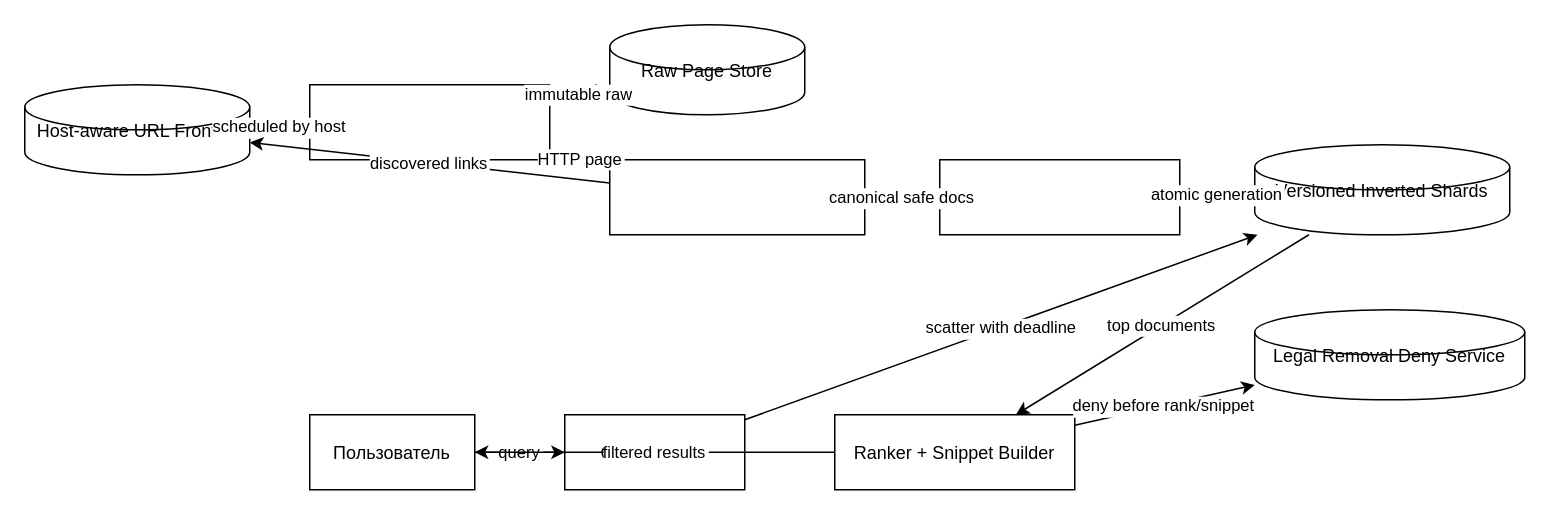
The diagram is 1550 pixels wide and 515 high, and some of its shapes have lost their labels. The centre of each missing label's shape, as x and y in pixels:
"Index Builder + Manifest" goes at (x=1059, y=196).
"Parser + URL/Content Dedup" goes at (x=736, y=196).
"Robots + Polite Fetchers" goes at (x=429, y=121).
